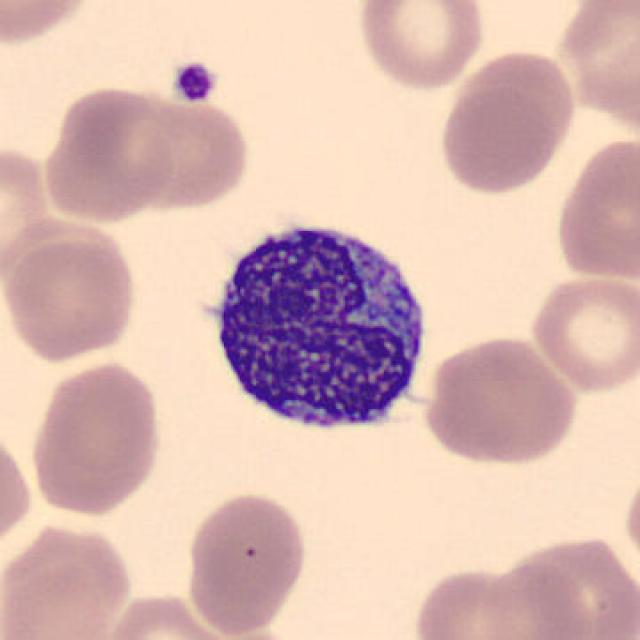monocyte: (225, 228, 432, 449)
platelets: (184, 59, 218, 103)
rbc: (30, 363, 160, 520), (2, 220, 122, 370), (432, 339, 569, 465), (48, 93, 177, 216), (191, 492, 303, 631), (466, 47, 572, 154), (436, 90, 554, 186), (559, 134, 640, 273), (521, 544, 640, 638), (10, 525, 127, 619), (537, 280, 640, 386), (142, 105, 250, 205), (554, 0, 640, 121), (361, 0, 481, 86), (0, 564, 103, 640), (419, 568, 527, 640), (489, 565, 584, 640), (117, 594, 222, 640), (0, 138, 43, 244), (0, 0, 81, 43), (0, 442, 30, 546), (619, 477, 640, 562), (9, 238, 10, 239)
